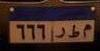6: (36, 23, 47, 40), (15, 23, 25, 41), (26, 23, 35, 41)
Taa: (68, 23, 79, 39)
meem: (80, 22, 94, 39)
raa: (54, 25, 68, 39)
